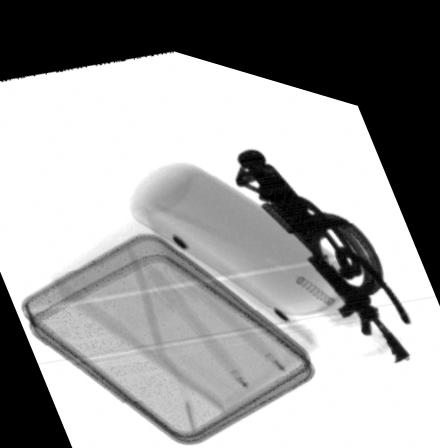Gun: (258, 182, 412, 339)
HandCuffs: (232, 130, 384, 277)
